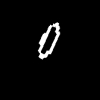chain: (38, 23, 59, 58)
